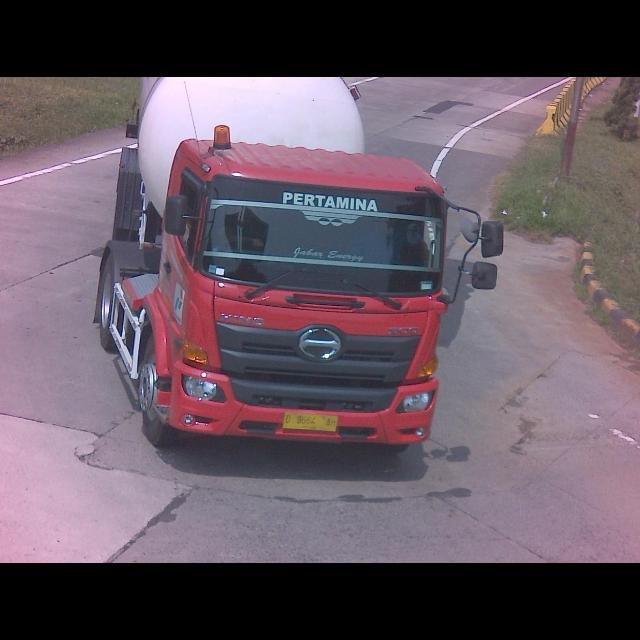plate: (286, 410, 340, 432)
